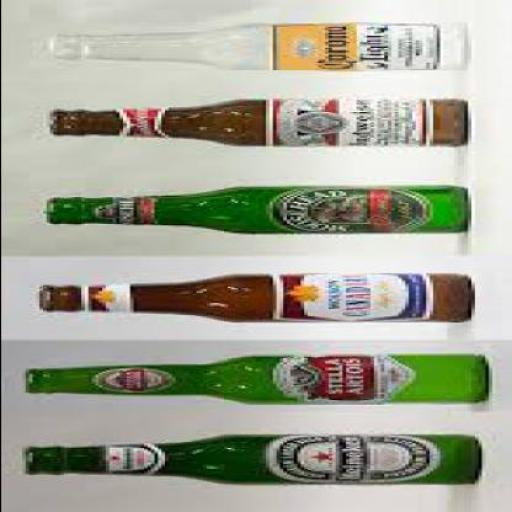glass: (21, 434, 477, 488), (21, 355, 484, 404), (35, 275, 467, 326), (45, 21, 463, 73), (45, 188, 463, 236), (48, 100, 464, 148)
